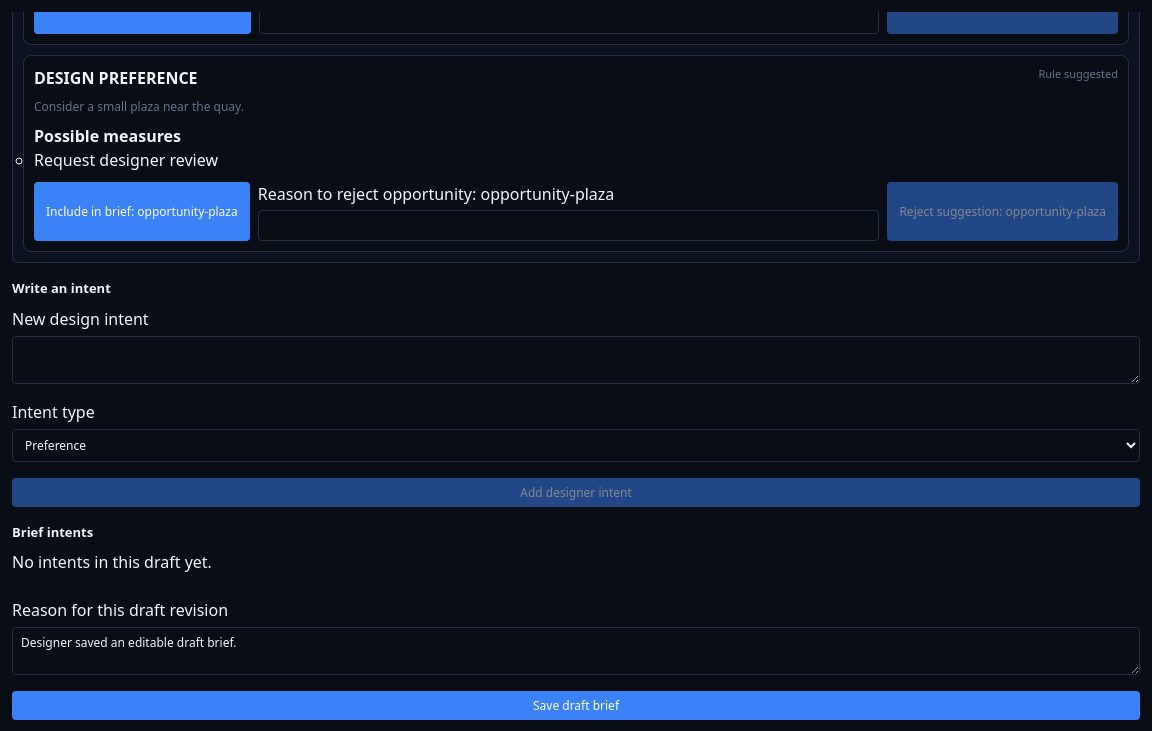
Test case: DesignBriefPanel › lets the designer undo a rejection, reselect the suggestion, and save the changed intent
This screenshot has width=1152, height=731.
(page scrolled)
Type "The plaza needs a different location." into the field labelled "Reason to reject opportunity: opportunity-plaza".
click(569, 226); type("The plaza needs a different location.")  # box [258,210,879,241]
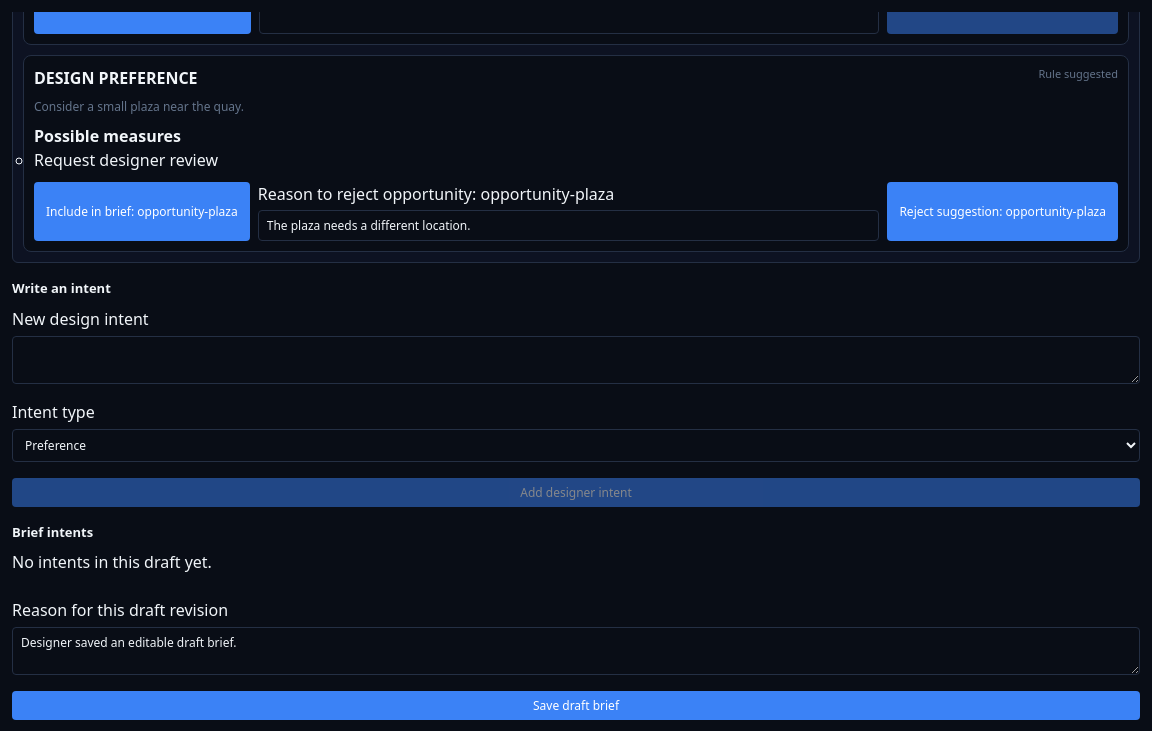
Click the button "Reject suggestion: opportunity-plaza".
click(1003, 212)  # box [887,182,1118,241]
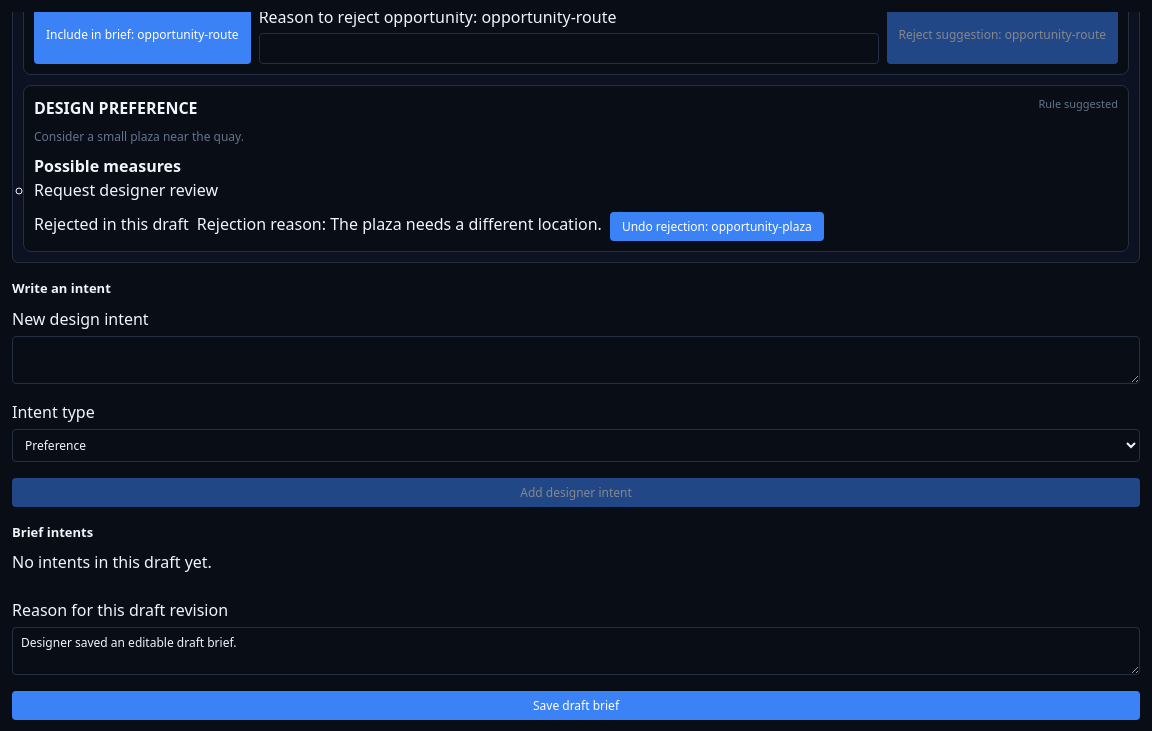
expect the text "Rejected in this draft" is shown: met, box [34,212,189,241]
Click the button "Undo rejection: opportunity-plaza".
click(717, 227)  # box [610,212,824,241]
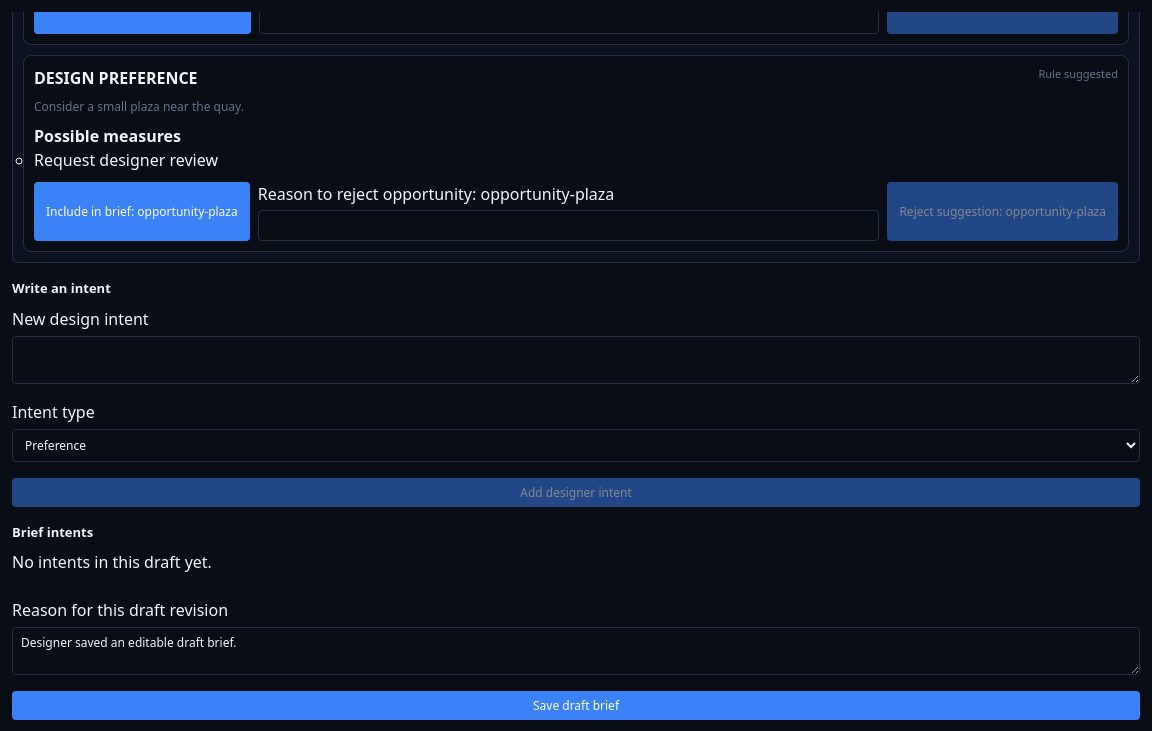
Click the button "Include in brief: opportunity-plaza".
click(142, 212)  # box [34,182,250,241]
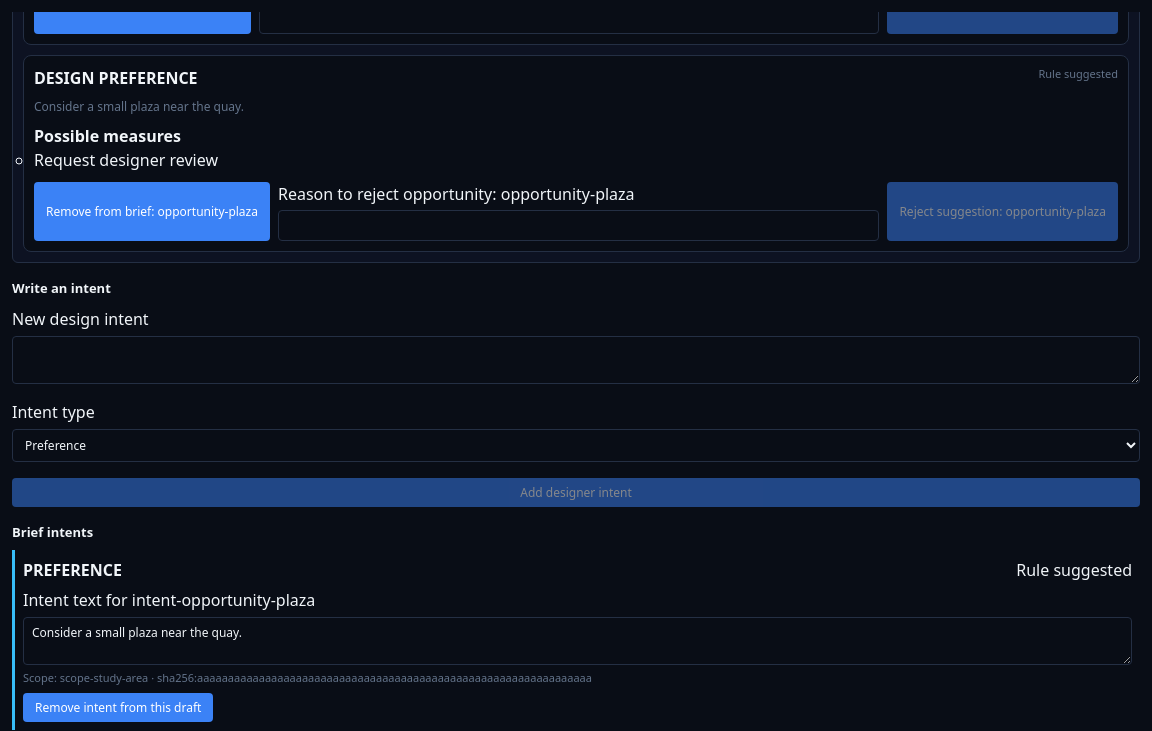
Replace the text in the text box labelled "Intent text for intent-opportunity-plaza" with "Place a small plaza away from the quay edge." at (578, 641), box [23,617,1132,665]
(page scrolled)
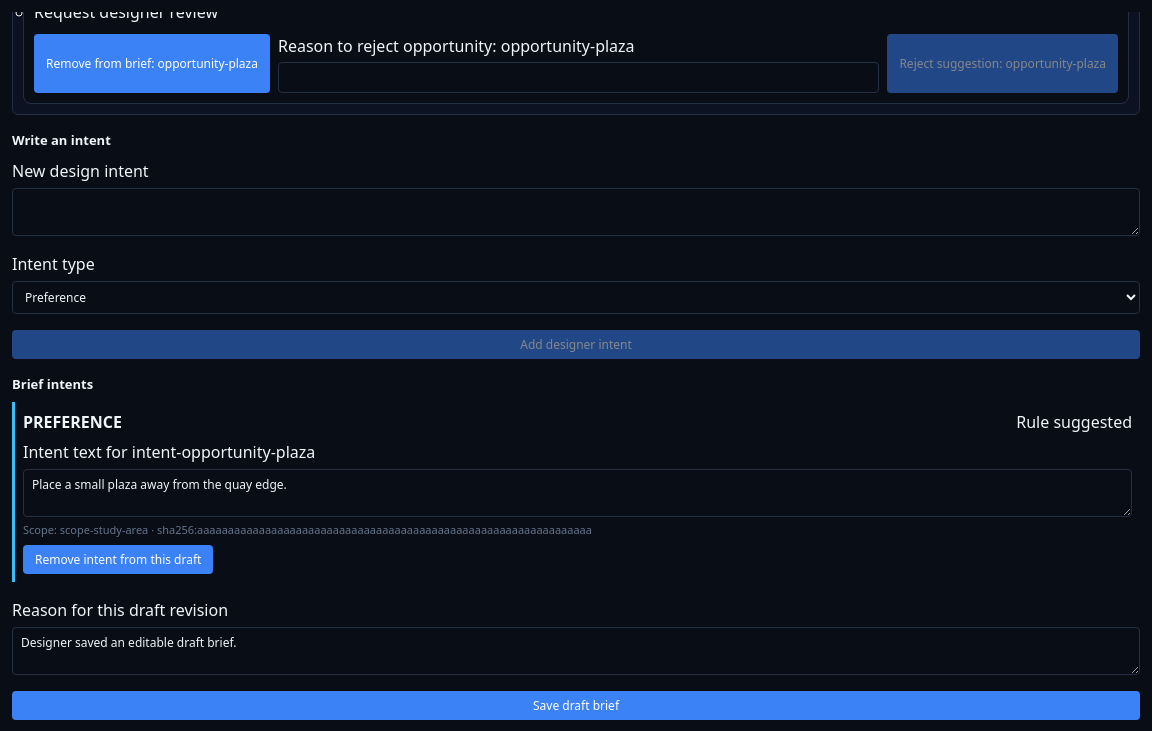
Click the button "Save draft brief".
click(576, 705)  # box [12,691,1140,720]
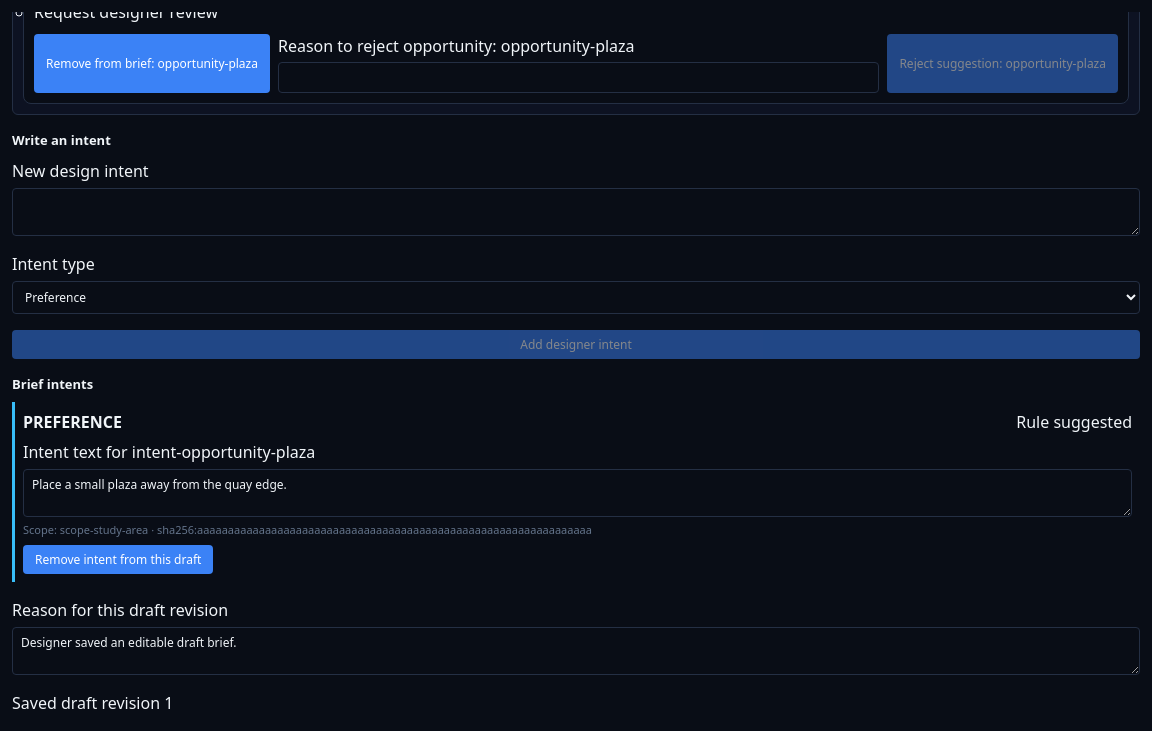
expect the text "Saved draft revision 1" is shown: met, box [12,692,173,714]
